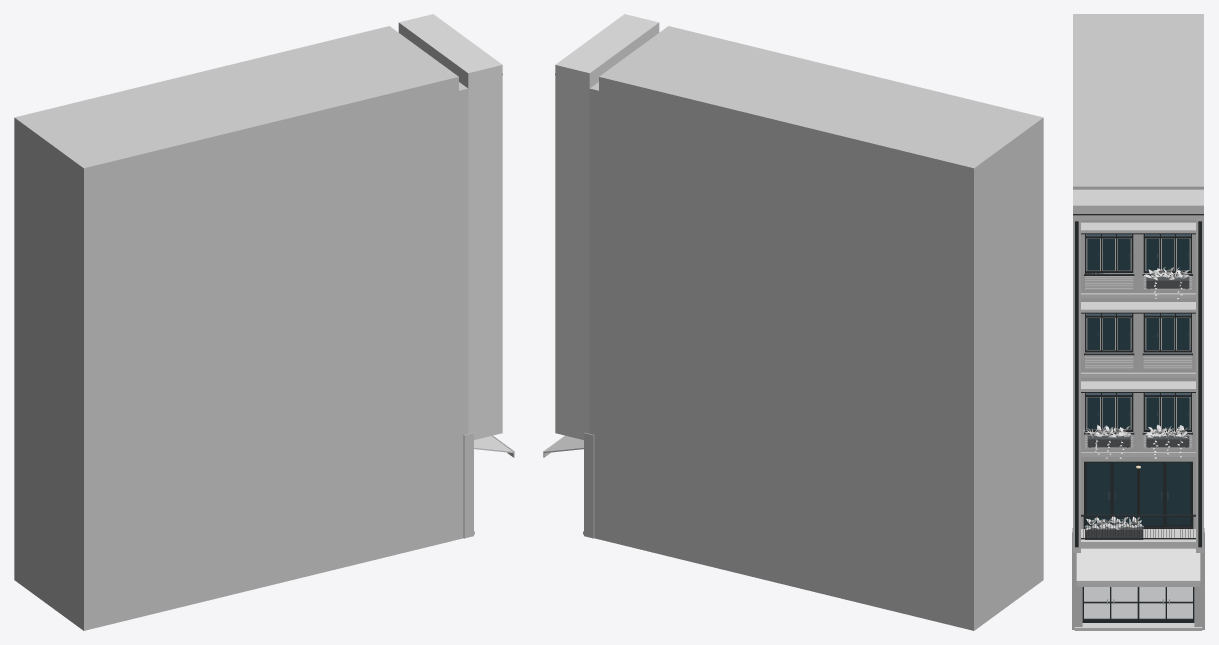
File: OW_Mau_NhaPho_5_0_0.fbx
The picture shows the model from 3 angles, left to right: view 1: azimuth 30°, elevation 25°; view 2: azimuth 150°, elevation 25°; view 3: azimuth 270°, elevation 25°; orthographic projection. The views are drawn at different scales.
Visible parts, largest first — view 1: OW_NhaPho_9008; view 2: OW_NhaPho_9008; view 3: OW_NhaPho_9008, OW_MatTienKinh.
Boxes of the visible parts, x1,y1,x2,y2 form: OW_NhaPho_9008: (14,14,514,630); OW_NhaPho_9008: (543,14,1043,630); OW_NhaPho_9008: (1072,14,1204,630); OW_MatTienKinh: (1082,587,1194,622).
Bounding box in the file's own units: 17.77 × 18.2 × 5.
